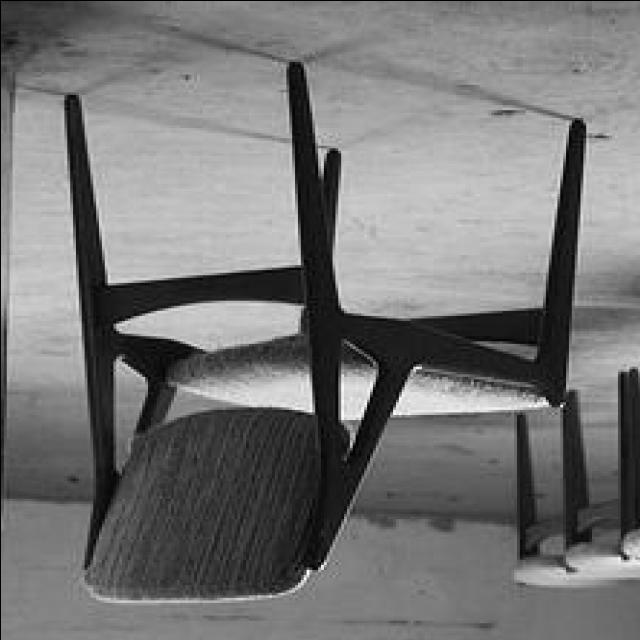chair: (66, 48, 586, 606)
